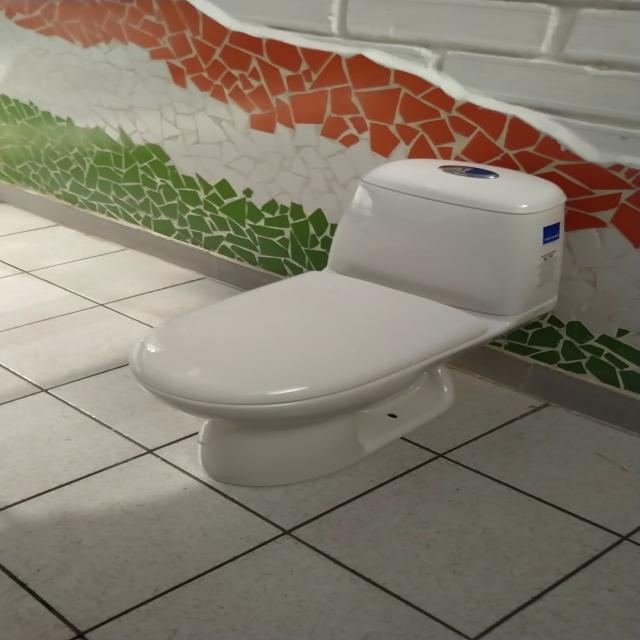toilet: (128, 158, 567, 488)
